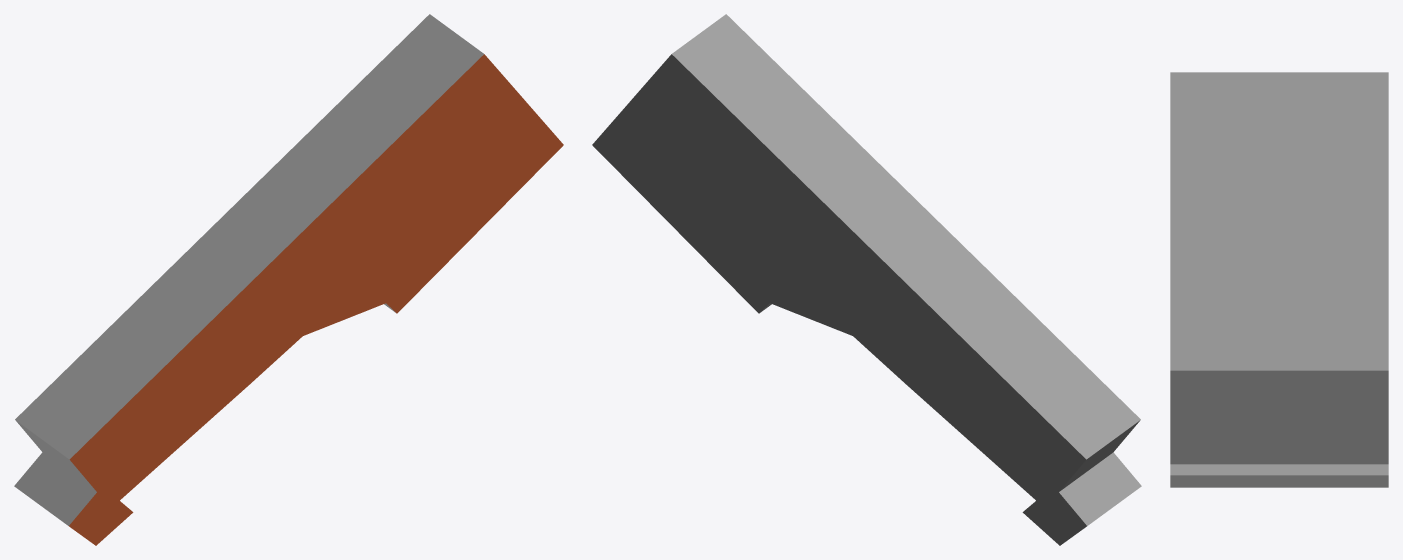
File: construction_1627_assumed_A_Casa_h6m.obj
3 views of the same model, side by side, from view 1: azimuth 30°, elevation 25°; view 2: azimuth 150°, elevation 25°; view 3: azimuth 270°, elevation 25° (orthographic). The views are drawn at different scales.
Visible parts, largest first — view 1: construction_1627_assumed_A_Casa; view 2: construction_1627_assumed_A_Casa; view 3: construction_1627_assumed_A_Casa.
Boxes of the visible parts, bbox=[...] form: construction_1627_assumed_A_Casa: bbox=[14, 14, 563, 545]; construction_1627_assumed_A_Casa: bbox=[592, 14, 1141, 545]; construction_1627_assumed_A_Casa: bbox=[1170, 72, 1388, 487].
Bounding box in the file's own units: 31.4 × 24.06 × 6.
